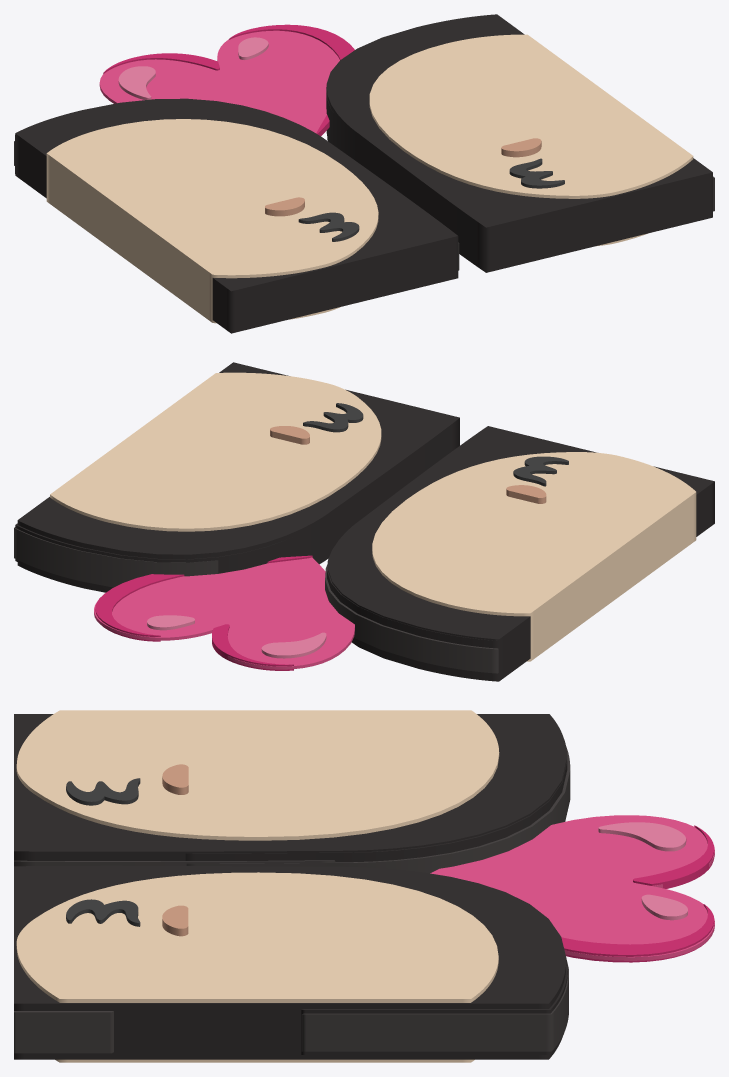
The model's file is emoji_u1f469_1f3fb_200d_2764_200d_1f48b_200d_1f469_1f3fb.glb.
The picture shows the model from 3 angles, top to bottom: view 1: azimuth 30°, elevation 25°; view 2: azimuth 150°, elevation 25°; view 3: azimuth 270°, elevation 25°; orthographic projection. The views are drawn at different scales.
Visible parts, largest first — view 1: emoji_u1f469_1f3fb_200d_2764_200d_1f48b_200d_1f469_1f3fb; view 2: emoji_u1f469_1f3fb_200d_2764_200d_1f48b_200d_1f469_1f3fb; view 3: emoji_u1f469_1f3fb_200d_2764_200d_1f48b_200d_1f469_1f3fb.
Part boxes in pixels (x1=…): emoji_u1f469_1f3fb_200d_2764_200d_1f48b_200d_1f469_1f3fb: x1=14, y1=14, x2=714, y2=333; emoji_u1f469_1f3fb_200d_2764_200d_1f48b_200d_1f469_1f3fb: x1=14, y1=362, x2=714, y2=681; emoji_u1f469_1f3fb_200d_2764_200d_1f48b_200d_1f469_1f3fb: x1=14, y1=710, x2=714, y2=1062.
Bounding box in the file's own units: 0.0336 × 0.0042 × 0.0339.
